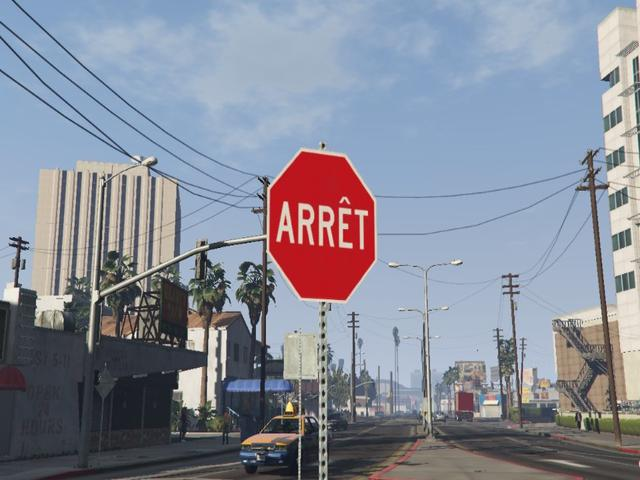stop: (262, 148, 381, 306)
